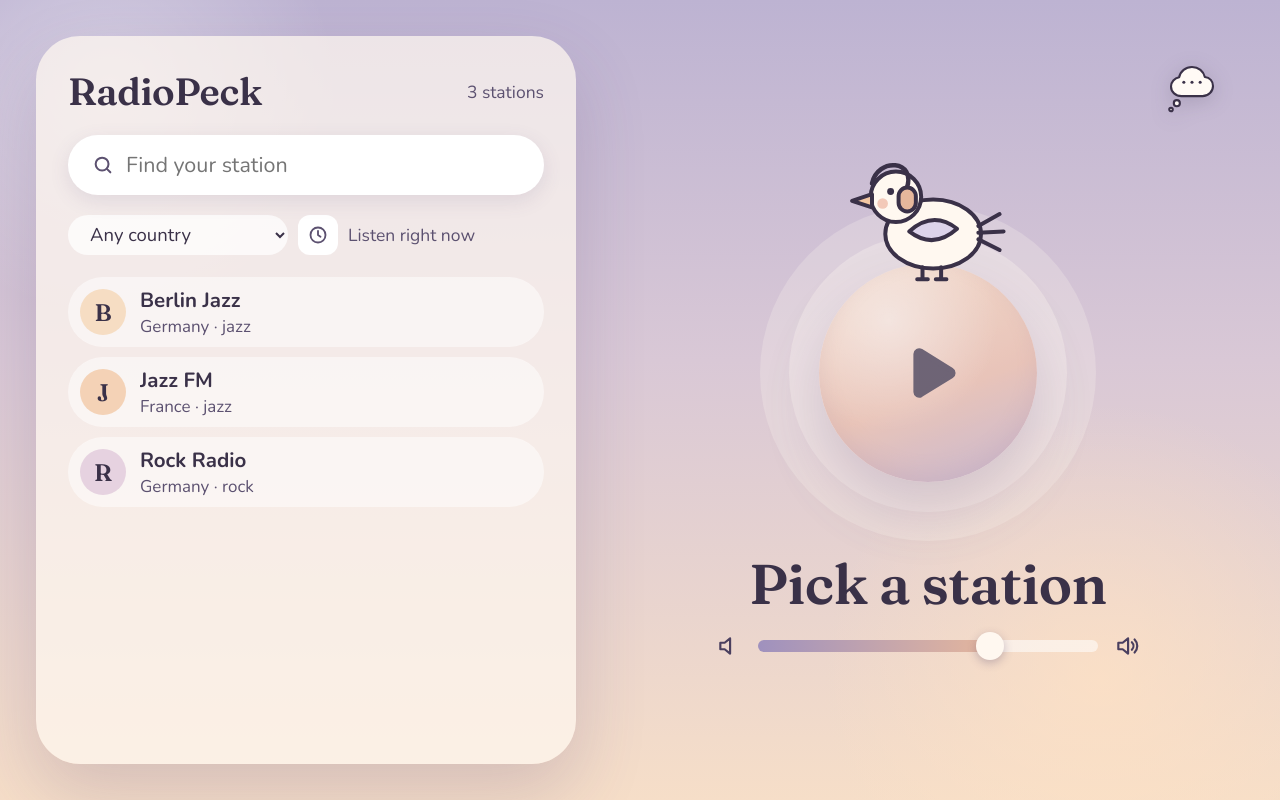
Test: App: recently played › does not list a station that was selected but never started
The width and height of the screenshot is (1280, 800).
Click the button "R Rock Radio Germany · rock": (103,472) left=68, top=437, right=544, bottom=507
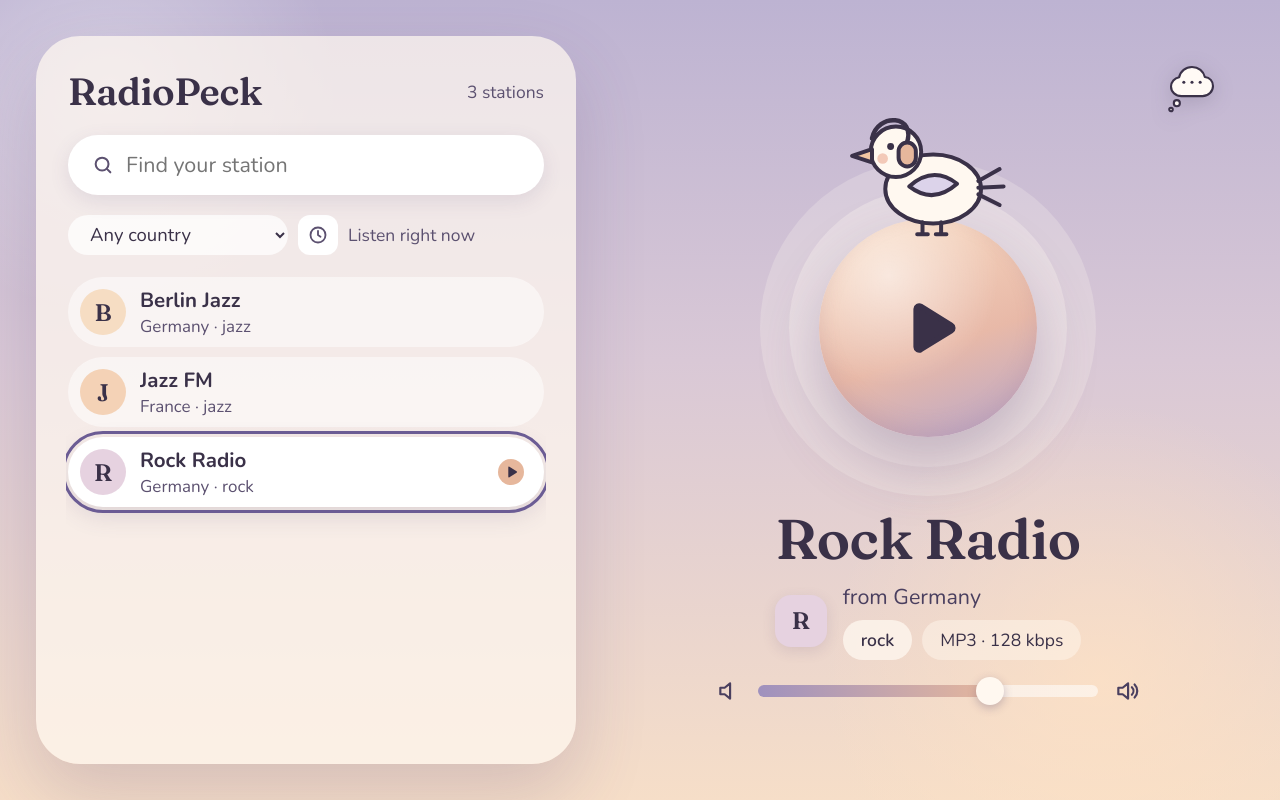
Click the button named "Recently played": (318,235) left=298, top=215, right=338, bottom=255
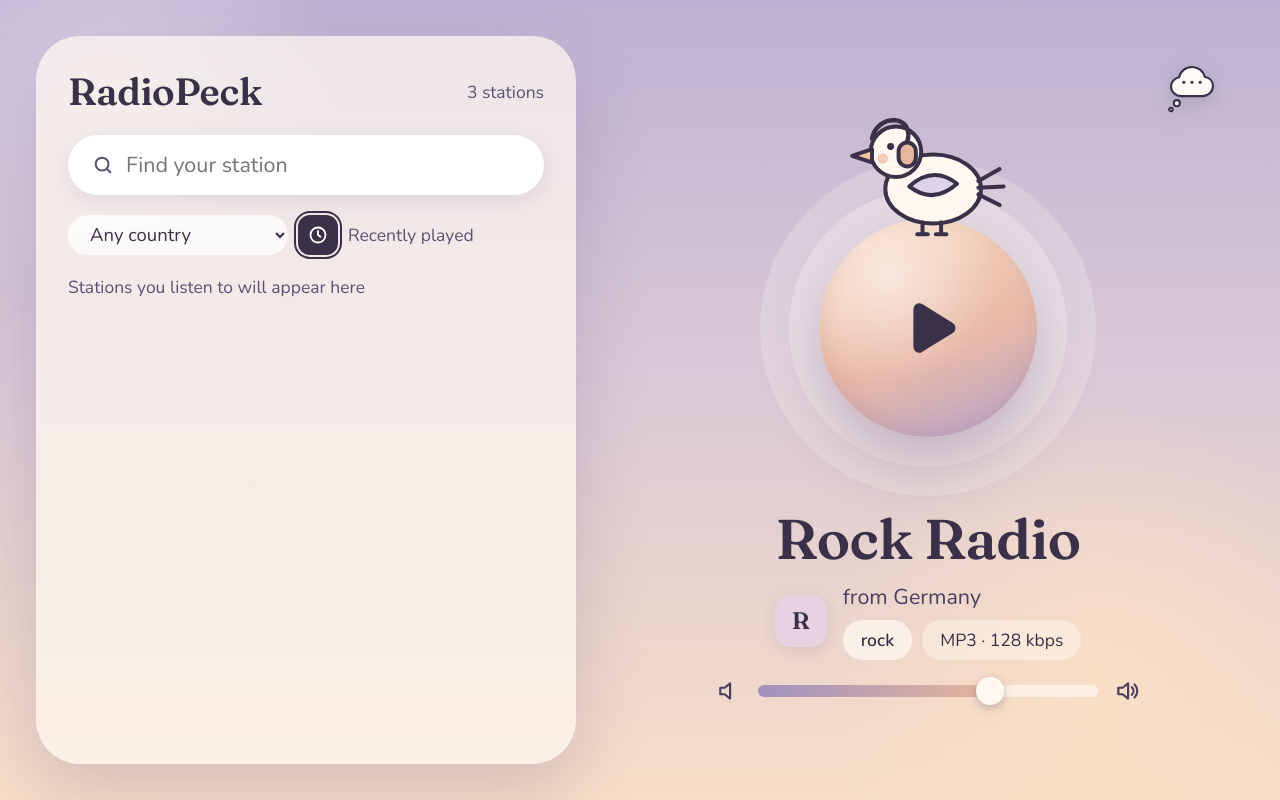
Now the text "Stations you listen to will appear here" is shown, box left=68, top=275, right=365, bottom=299
